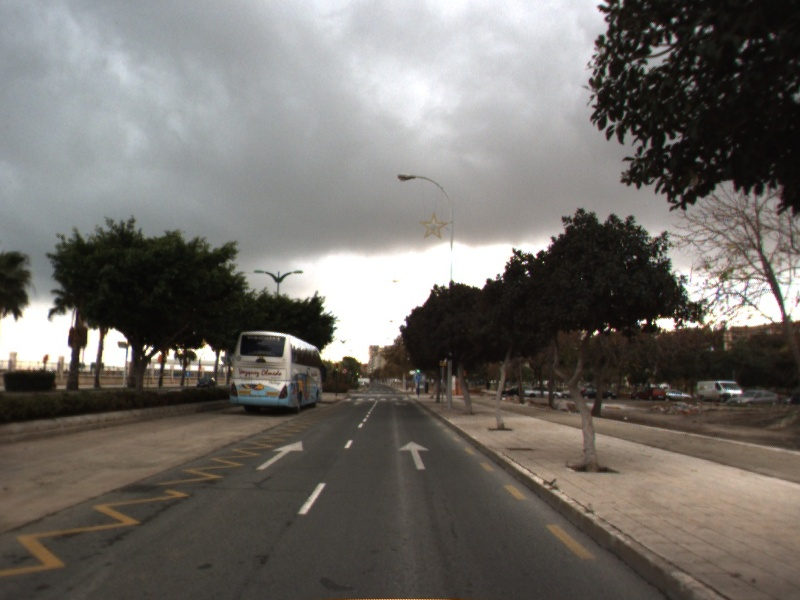STRAIGHT: (254, 438, 305, 472), (396, 439, 432, 472)
